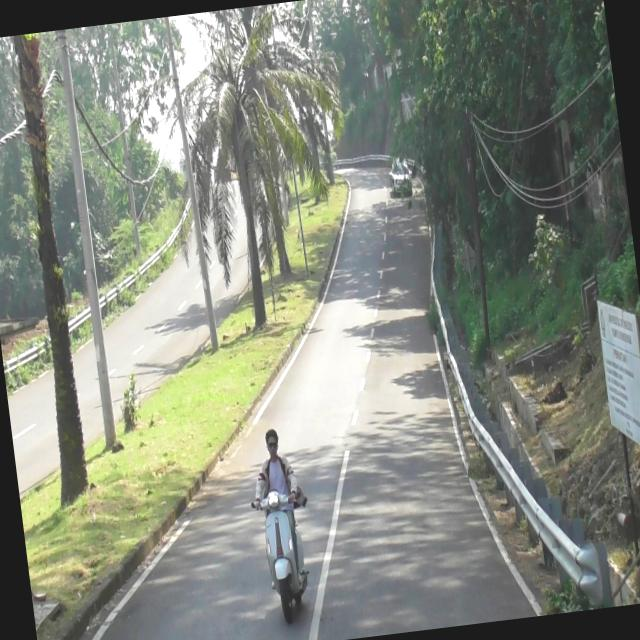motorcycle: (252, 486, 315, 628)
person: (247, 424, 300, 510)
rider_region: (248, 423, 316, 623)
